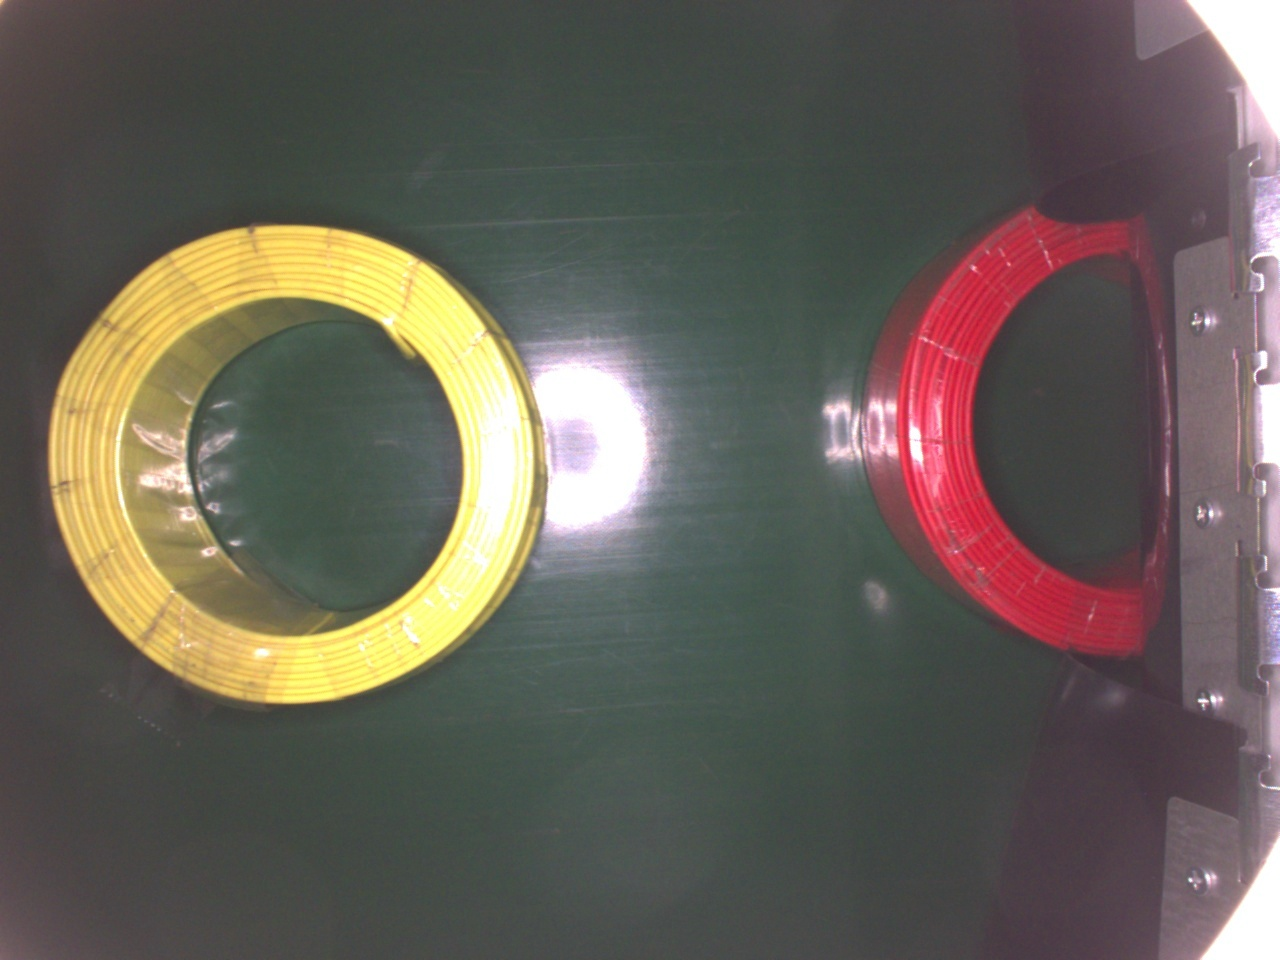red: (854, 204, 1166, 667)
yellow: (46, 219, 547, 710)
